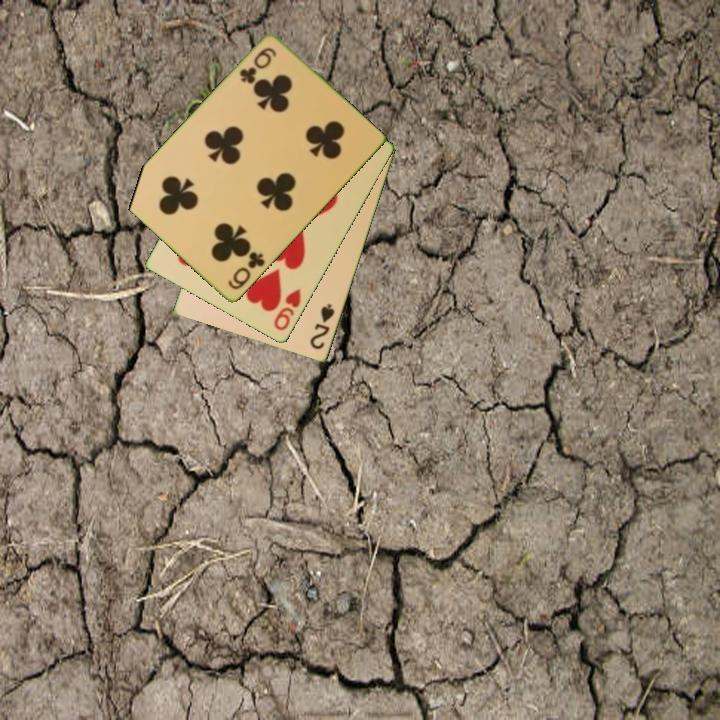2s: (307, 301, 338, 353)
6c: (224, 248, 268, 293), (236, 44, 279, 87)
9h: (270, 285, 304, 334)
